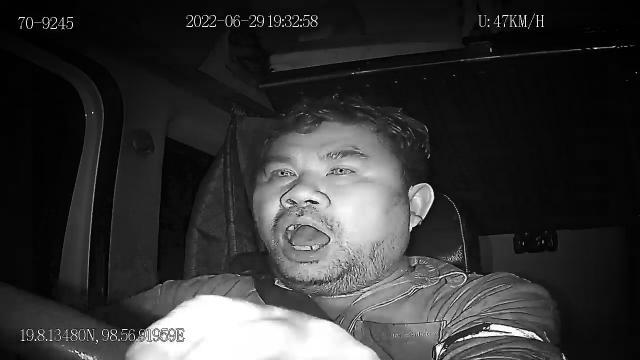SafeDriving: (260, 158, 300, 188), (321, 156, 364, 182)
Seatbelt: (250, 272, 338, 322)
